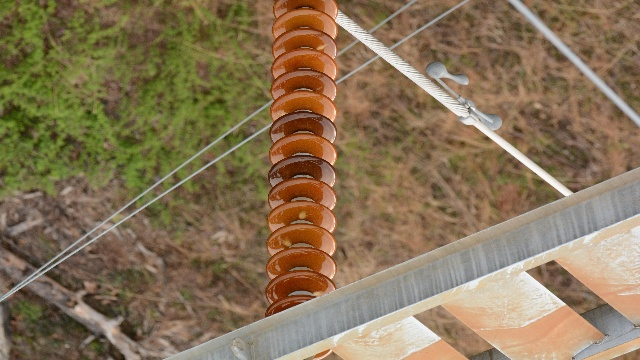insulator_unspecified: (264, 0, 338, 332)
pollution_flashover_local: (277, 235, 291, 247), (298, 208, 307, 221), (313, 288, 324, 298), (315, 44, 328, 51)
